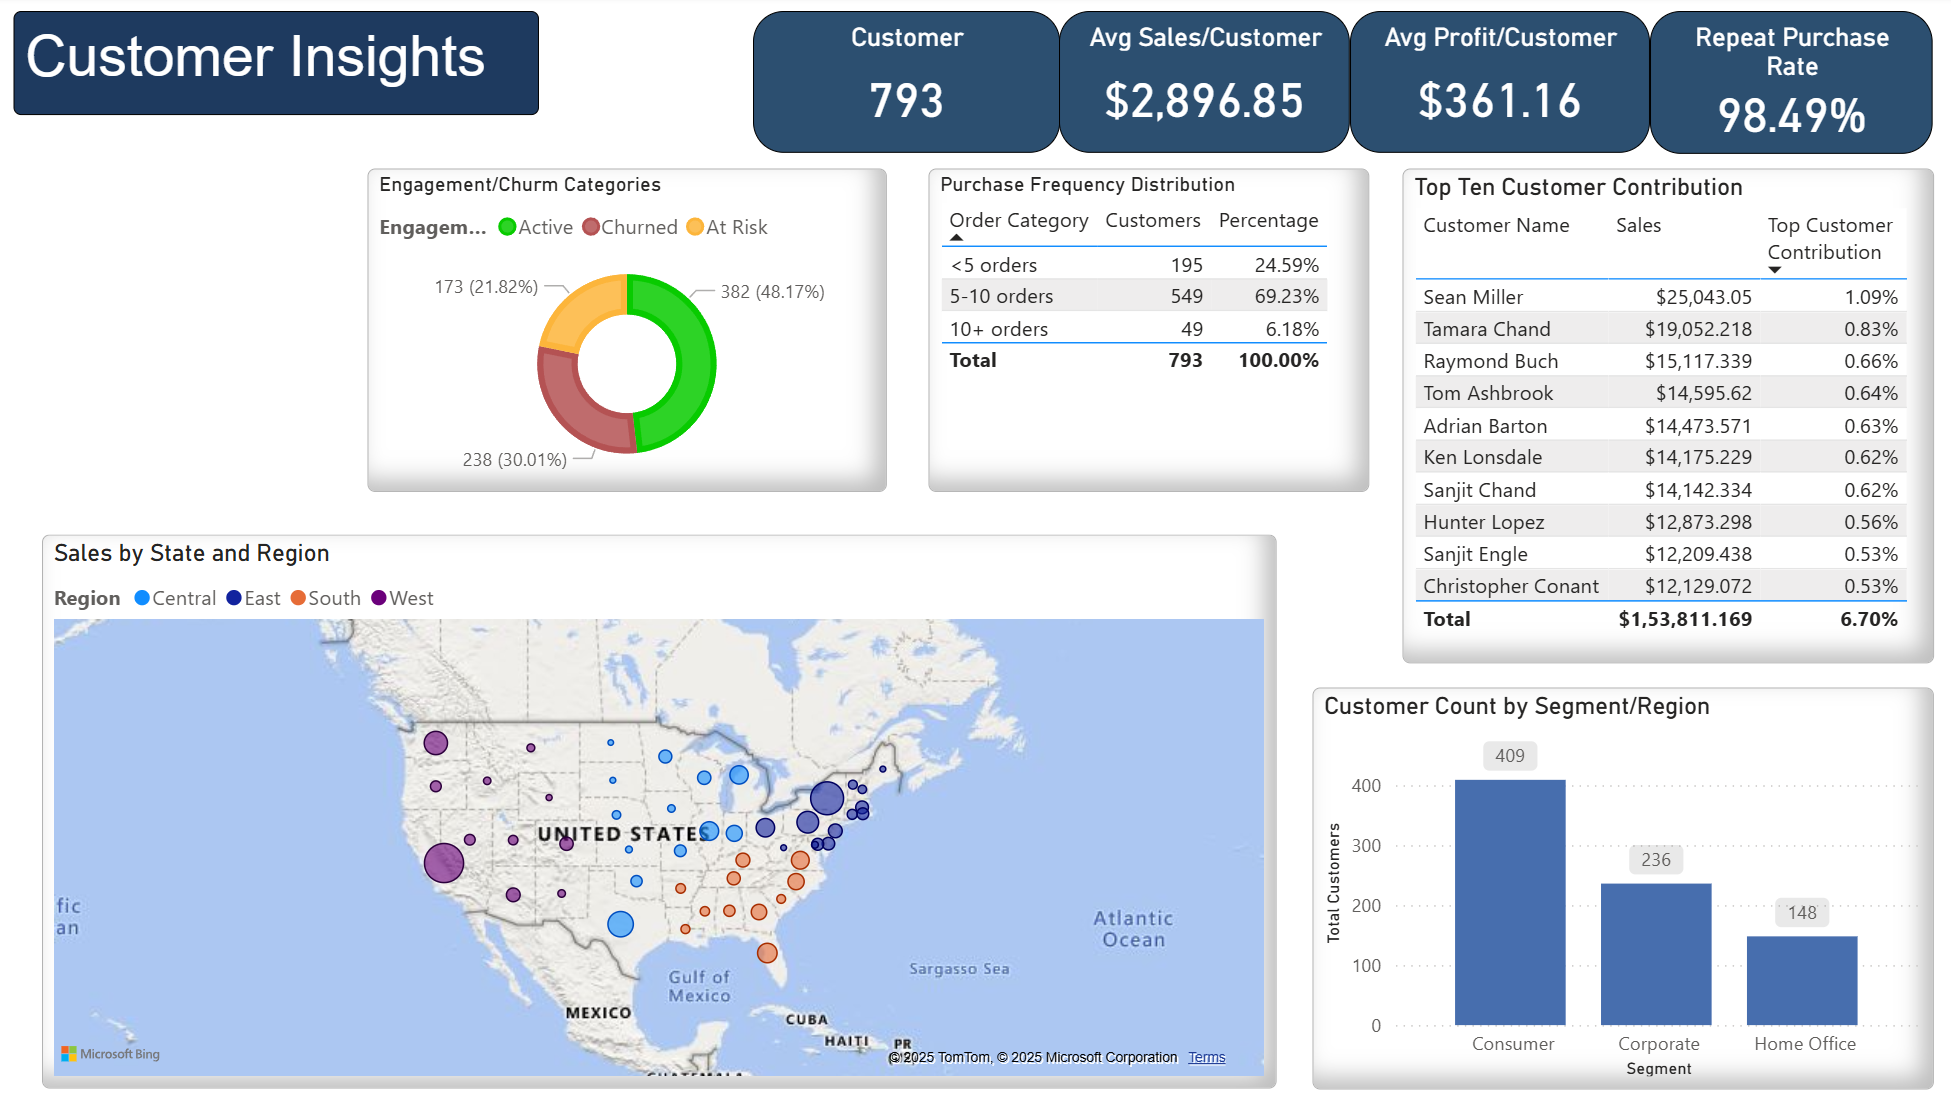

The page's visual inventory and layout, read from the dashboard file:
{"tool":"powerbi","page":{"name":"Customer Insights","canvas":[1280,720],"ordinal":2},"visuals":[{"type":"card","title":"Customer","fields":{"Values":["Retails Order Full Dataset.Customer ID"]},"box":[495.6,10.1,200.4,92.4],"z":0},{"type":"card","title":"Avg Sales/Customer","fields":{"Values":["Calendar Table.Avg of Sales"]},"box":[696.1,10.1,190.3,92.4],"z":1000},{"type":"card","title":"Avg Profit/Customer","fields":{"Values":["Calendar Table.Avg Profit per Customer"]},"box":[886.4,10.1,195.8,92.4],"z":2000},{"type":"tableEx","title":"Top Ten Customer Contribution","fields":{"Values":["Retails Order Full Dataset.Customer Name","Calendar Table.Sum of Sales","Calendar Table.Top Customer Contribution"]},"box":[920.3,112.3,347.4,323.4],"z":3000},{"type":"card","title":"Repeat Purchase Rate","fields":{"Values":["Calendar Table.Repeast Purchase Rate %"]},"box":[1082.3,9.8,184.9,93],"z":4000},{"type":"textbox","box":[13.1,9.8,343.6,67.8],"z":5000},{"type":"map","title":"Sales by State and Region","fields":{"Category":["Retails Order Full Dataset.State","Retails Order Full Dataset.City"],"Size":["Calendar Table.Sum of Sales"],"Series":["Retails Order Full Dataset.Region"]},"box":[31.7,351.5,806.7,362.1],"z":6000},{"type":"columnChart","title":"Customer Count by Segment/Region","fields":{"Category":["Retails Order Full Dataset.Segment"],"Y":["Calendar Table.Total Customers"]},"box":[861.5,451.4,406.3,262.6],"z":7000},{"type":"tableEx","title":"Purchase Frequency Distribution","fields":{"Values":["Customer_Order_Buckets.OrderBucket","Calendar Table.Total Customers","Divide(Calendar Table.Total Customers, ScopedEval(Calendar Table.Total Customers, []))"]},"box":[610.8,112.4,288.1,211.3],"z":8000},{"type":"donutChart","title":"Engagement/Churm Categories","fields":{"Category":["Retails Order Full Dataset.Engagement"],"Y":["Calendar Table.Total Customers"]},"box":[243.9,112.4,339,211.3],"z":9000}]}

Visuals, with their boxes in screenshot pixels (x1, y1, x2, y2), scaled from the page's 1280x720 canvas onto the 1951x1095 screenshot:
"Customer" card: crop(755, 15, 1061, 156)
"Avg Sales/Customer" card: crop(1061, 15, 1351, 156)
"Avg Profit/Customer" card: crop(1351, 15, 1650, 156)
"Top Ten Customer Contribution" tableEx: crop(1403, 171, 1932, 663)
"Repeat Purchase Rate" card: crop(1650, 15, 1931, 156)
textbox: crop(20, 15, 544, 118)
"Sales by State and Region" map: crop(48, 535, 1278, 1085)
"Customer Count by Segment/Region" columnChart: crop(1313, 687, 1932, 1086)
"Purchase Frequency Distribution" tableEx: crop(931, 171, 1370, 492)
"Engagement/Churm Categories" donutChart: crop(372, 171, 888, 492)
